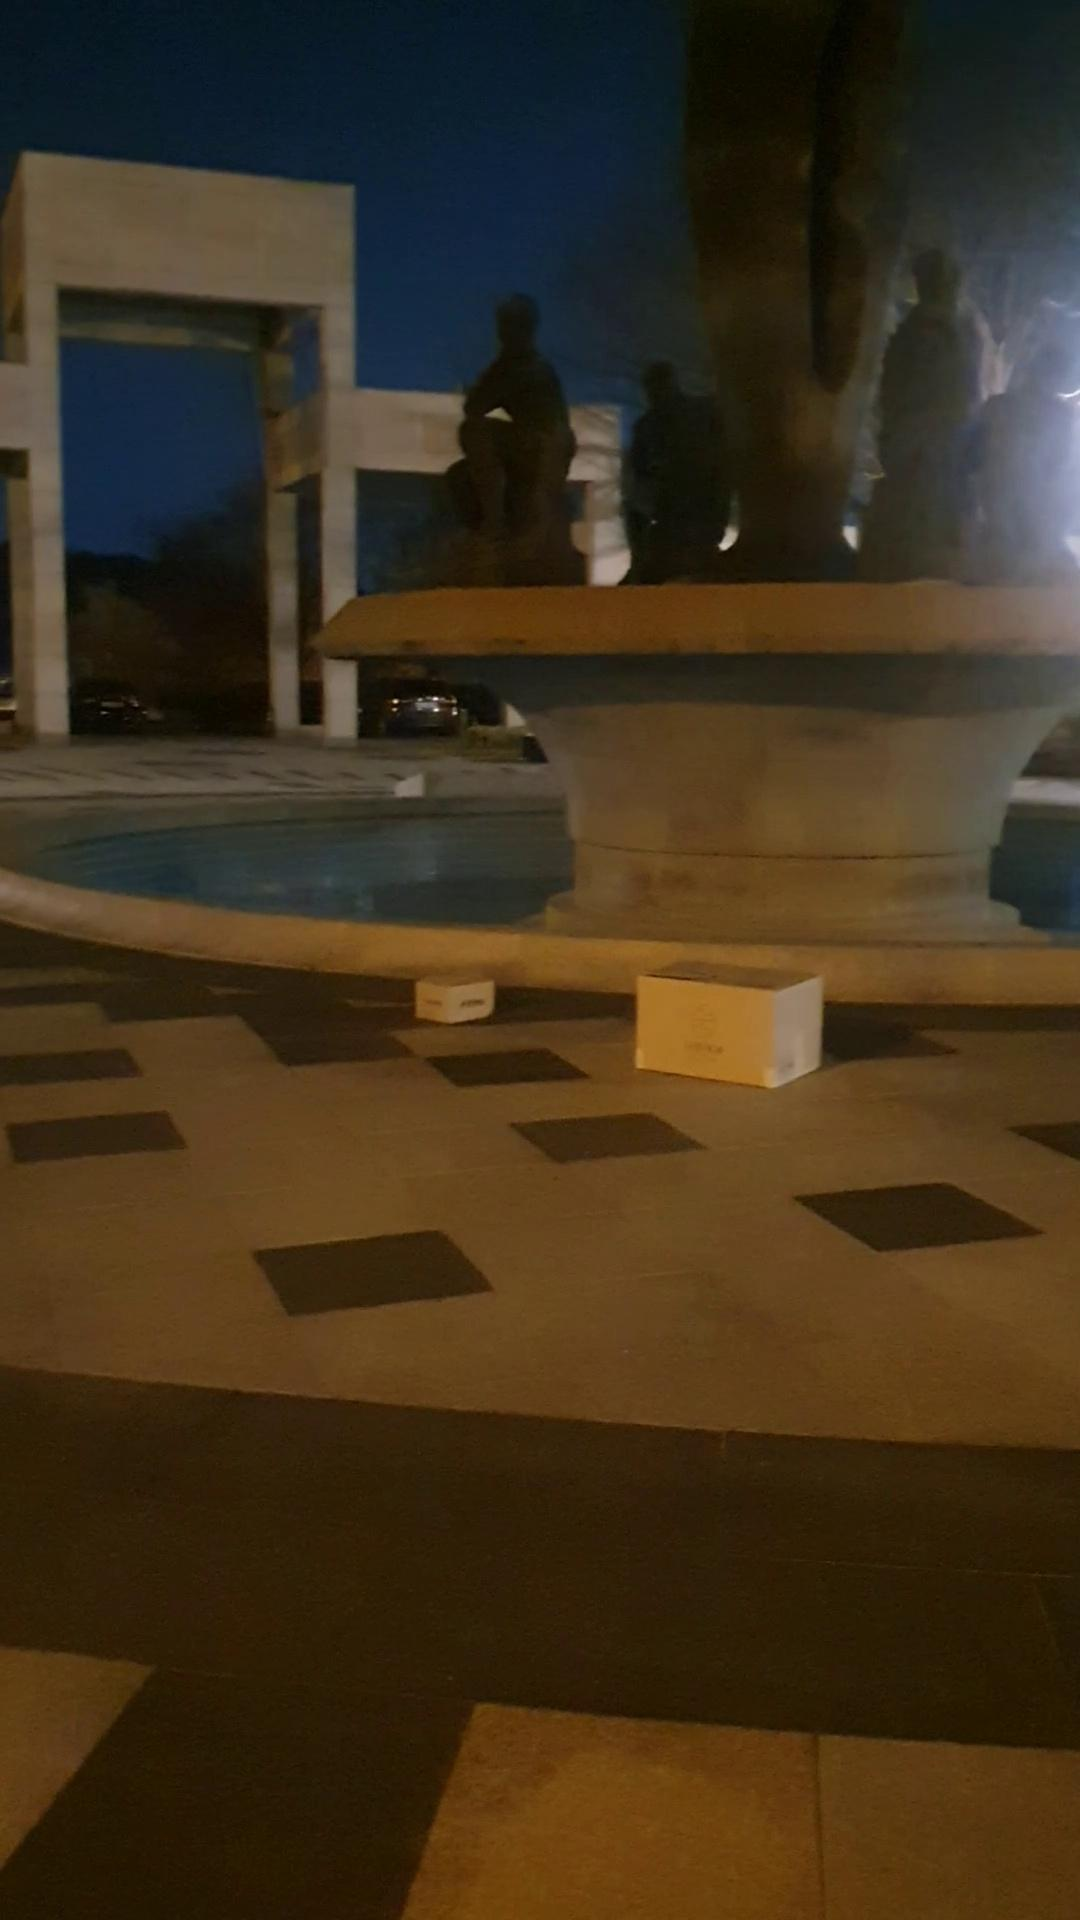Box: (632, 949, 837, 1091), (404, 955, 495, 1021)
